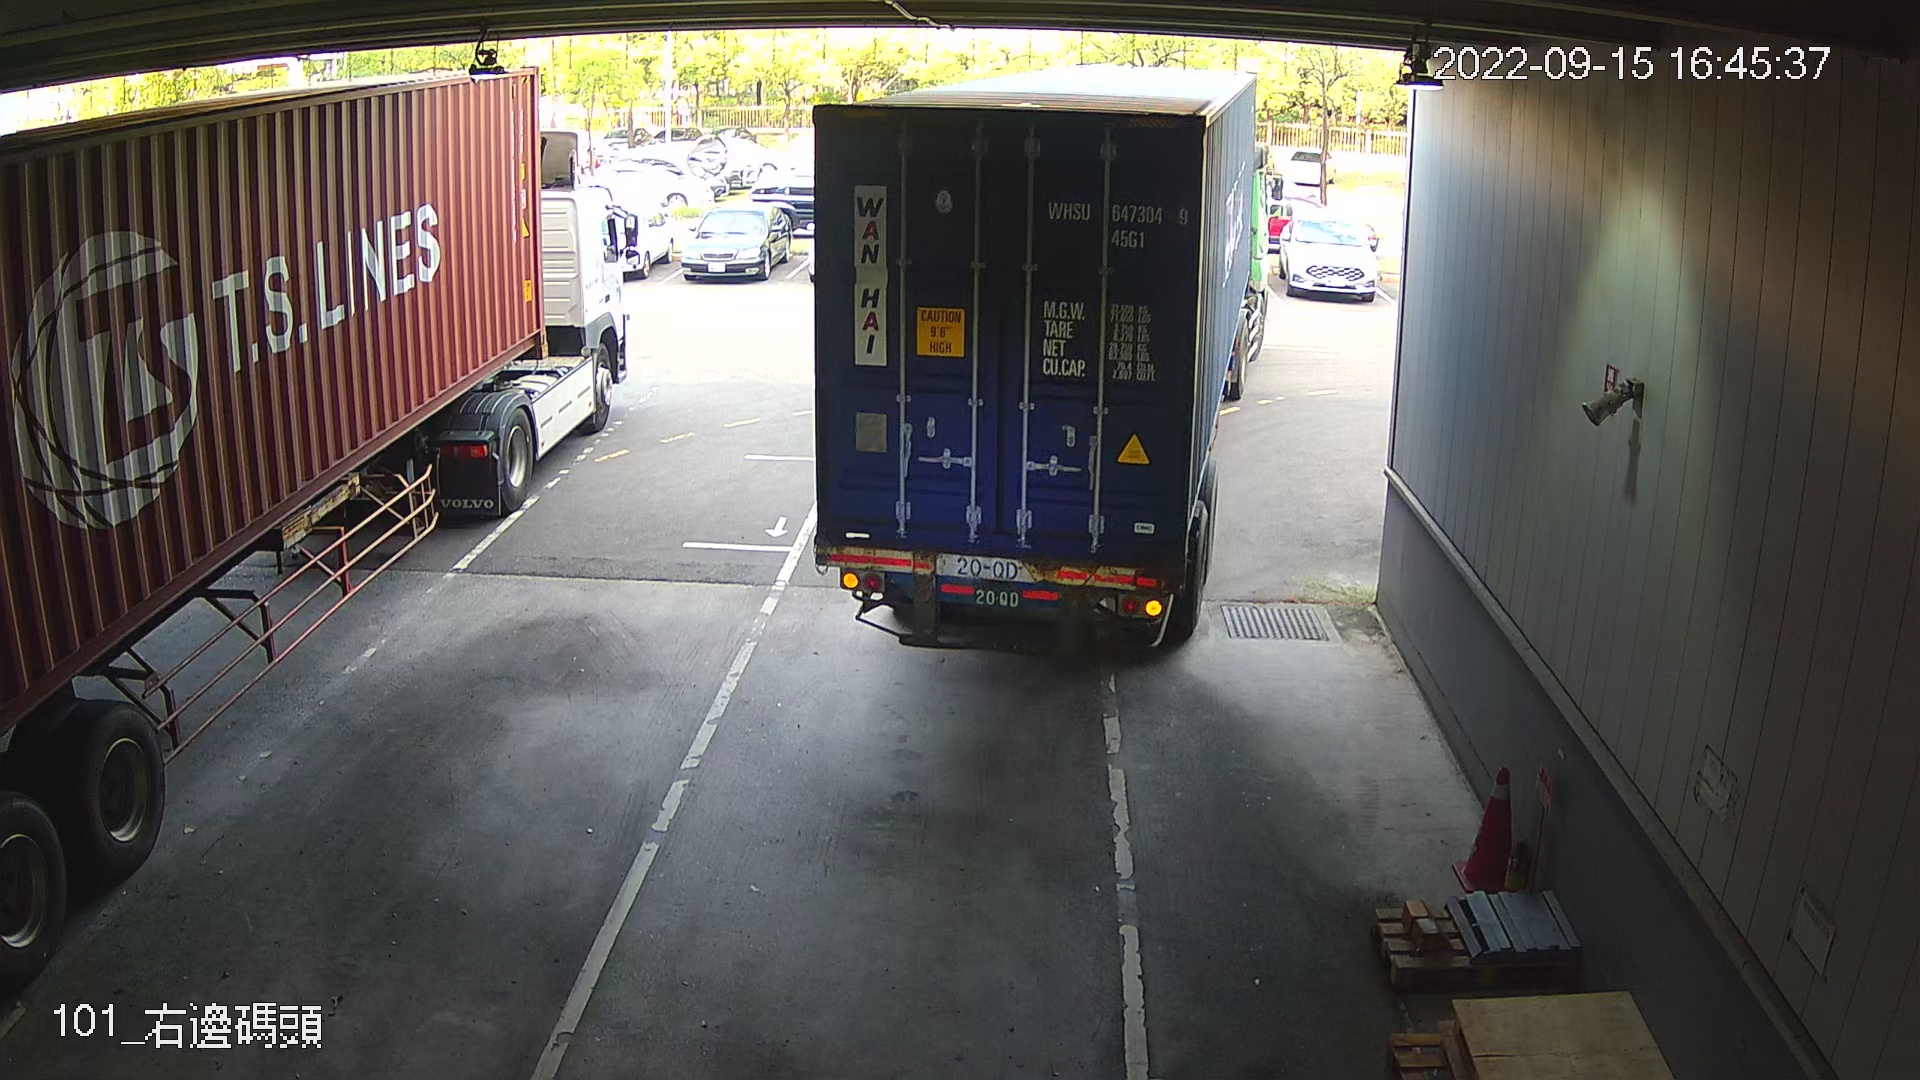container: (1039, 195, 1193, 255)
